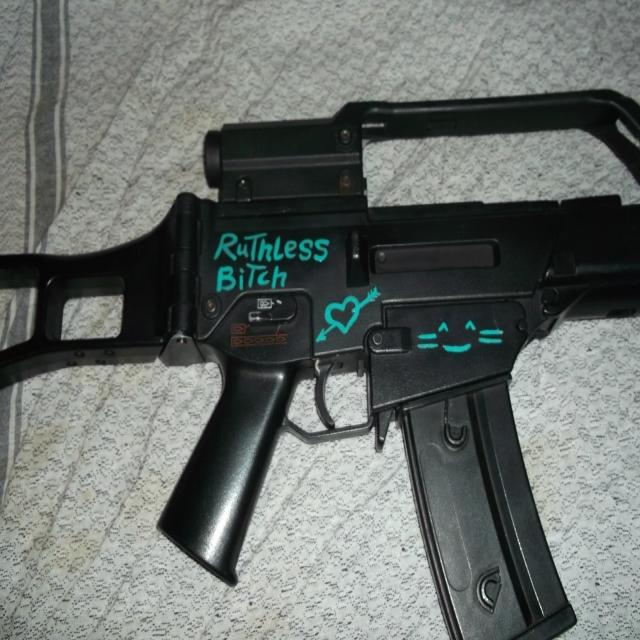firearm: (0, 86, 640, 640)
